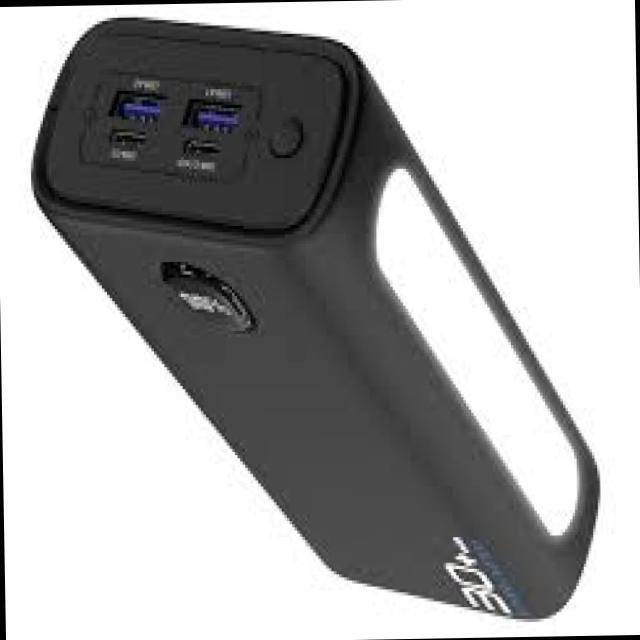portable-charger: (26, 2, 600, 626)
